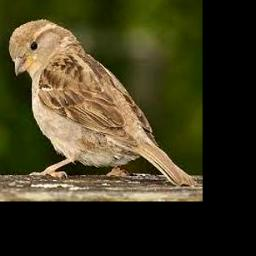Sparrow: (10, 19, 197, 187)
